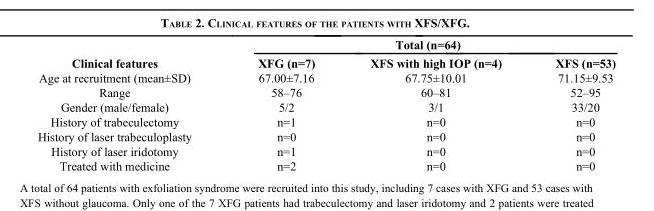table: (36, 37, 615, 172)
table column: (36, 37, 224, 172), (341, 37, 527, 172), (224, 37, 341, 172), (527, 37, 615, 172)
table column header: (36, 37, 615, 69)
table row: (36, 37, 615, 53), (36, 53, 615, 69), (36, 69, 615, 84), (36, 84, 615, 99), (36, 99, 615, 114), (36, 128, 615, 143), (36, 143, 615, 158), (36, 114, 615, 128), (36, 158, 615, 172)
table spanning cell: (224, 37, 615, 53), (36, 37, 224, 69)
